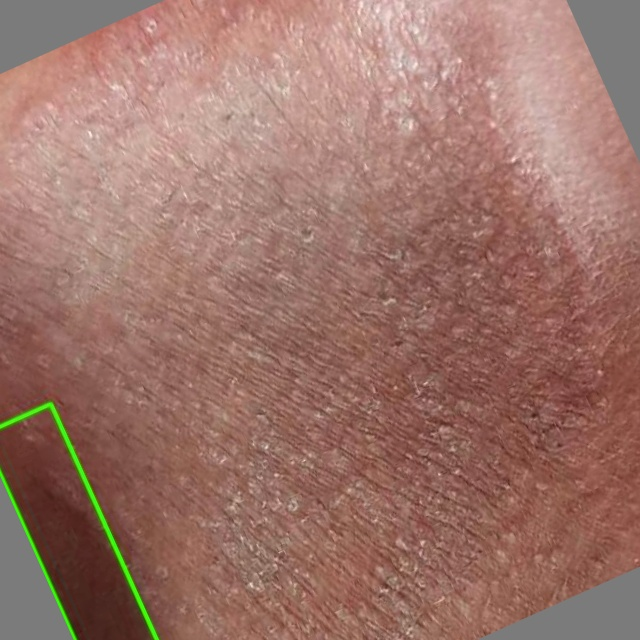Tinea Corporis: (0, 404, 156, 639)
